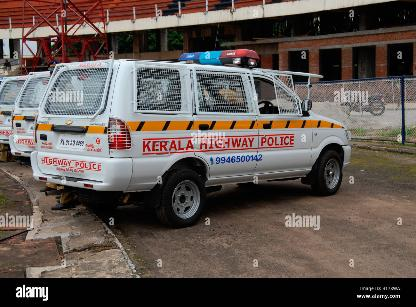priority: (30, 50, 352, 222)
